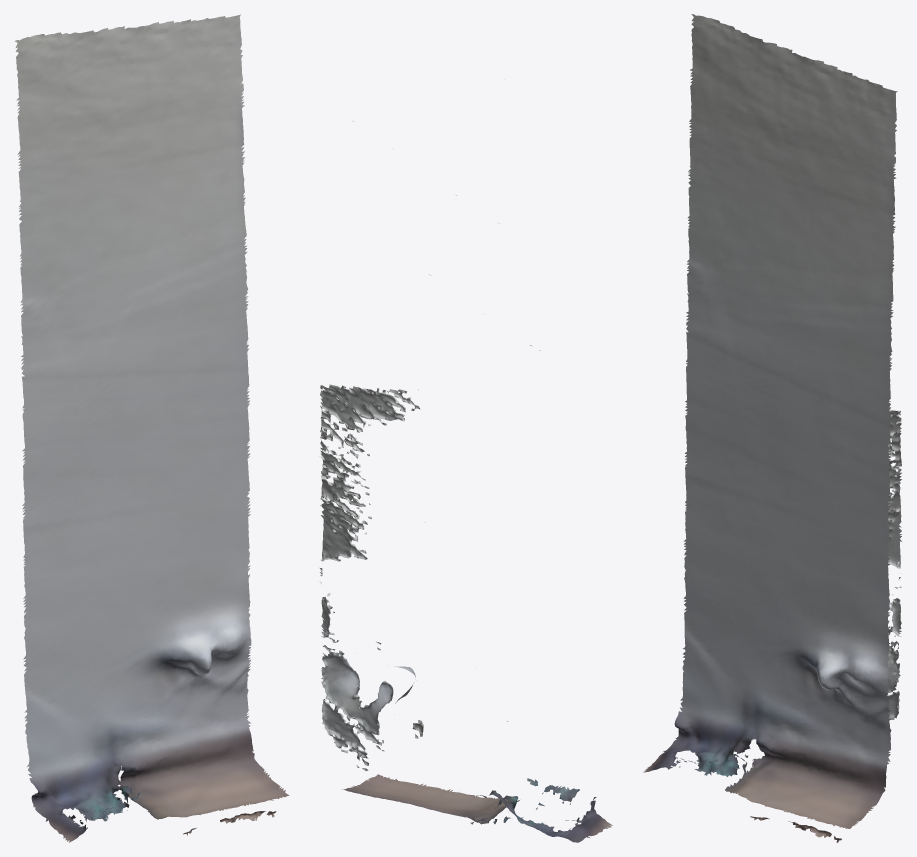
Rendered from apartment-full-88-91e25df490a0.glb.
The picture shows the model from 3 angles, left to right: view 1: azimuth 30°, elevation 25°; view 2: azimuth 150°, elevation 25°; view 3: azimuth 330°, elevation 25°; orthographic projection. The views are drawn at different scales.
Bounding box in the file's own units: 0.649 × 2.19 × 0.279.
